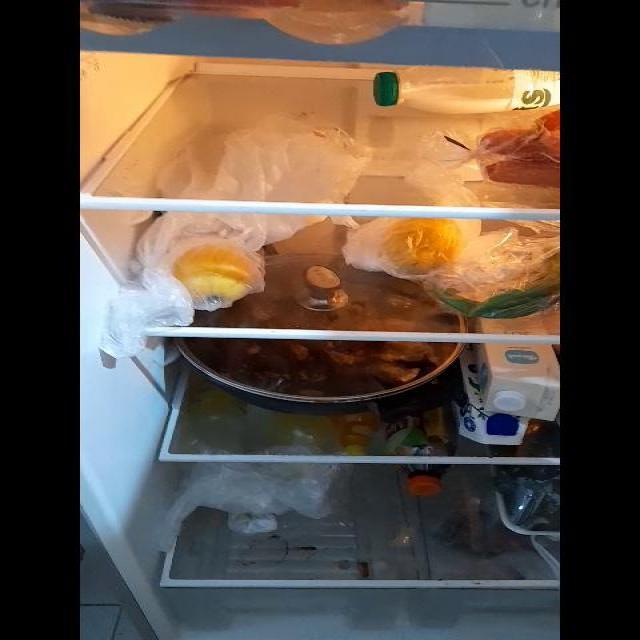broccoli: (500, 470, 555, 533)
carrot: (480, 123, 557, 181)
green chilies: (439, 276, 560, 319)
lemon: (174, 243, 262, 303), (381, 217, 464, 272)
milk: (460, 344, 557, 442), (378, 61, 546, 113)
